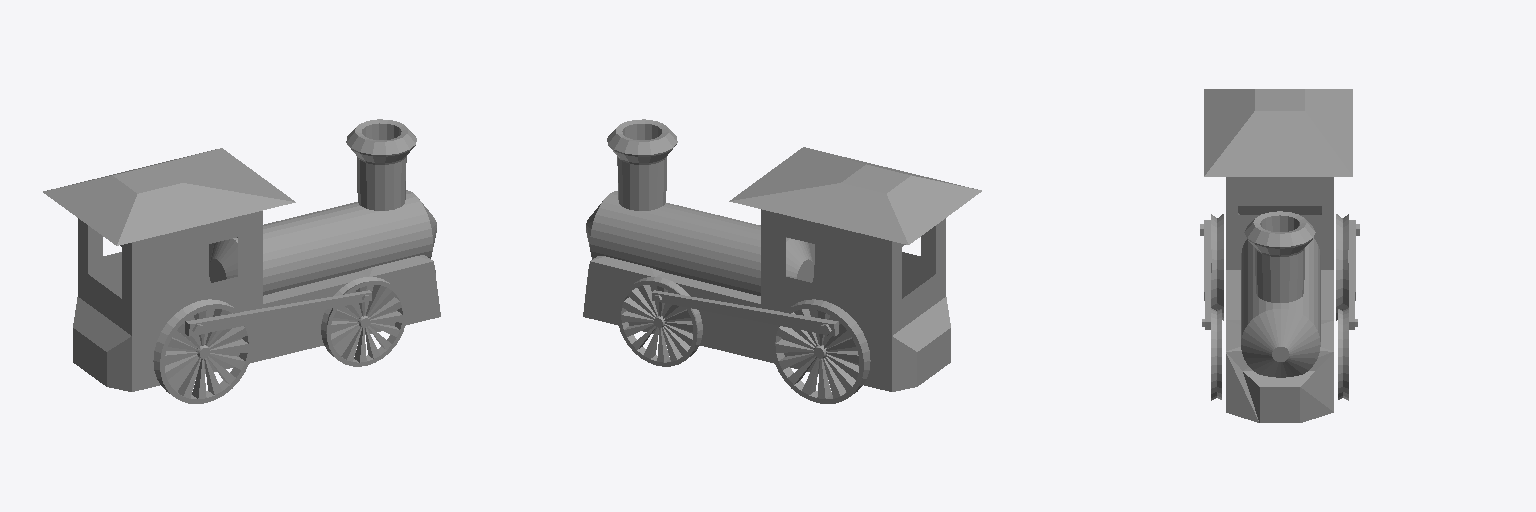
File: trem.obj
3 renders of one model, left to right at view 1: azimuth 30°, elevation 25°; view 2: azimuth 150°, elevation 25°; view 3: azimuth 270°, elevation 25°, orthographic.
Visible parts, largest first — view 1: CorpoTrem_Cube, Caldeira_Cylinder, Circle_Circle.002, Circle.001_Circle.000, Chamine_Cylinder.001, Plane.001; view 2: CorpoTrem_Cube, Caldeira_Cylinder, Circle_Circle.002, Circle.001_Circle.000, Chamine_Cylinder.001, Plane.001; view 3: CorpoTrem_Cube, Caldeira_Cylinder, Chamine_Cylinder.001, Circle_Circle.002, Circle.001_Circle.000, Plane.001.
Part boxes in pixels (x1,y1,x2,y2): CorpoTrem_Cube: (43,148,440,391); Caldeira_Cylinder: (209,190,436,295); Circle_Circle.002: (153,299,252,403); Circle.001_Circle.000: (321,277,406,366); Chamine_Cylinder.001: (346,119,416,210); Plane.001: (185,290,371,336); CorpoTrem_Cube: (583,147,981,391); Caldeira_Cylinder: (586,191,813,295); Circle_Circle.002: (771,299,870,403); Circle.001_Circle.000: (617,277,702,366); Chamine_Cylinder.001: (607,119,677,210); Plane.001: (652,290,838,336); CorpoTrem_Cube: (1204,89,1352,422); Caldeira_Cylinder: (1241,237,1320,377); Chamine_Cylinder.001: (1244,211,1315,302); Circle_Circle.002: (1211,214,1348,320); Circle.001_Circle.000: (1211,308,1348,400); Plane.001: (1200,220,1359,329).
Size of the model in its own units: 7.53 by 4.19 by 2.94.